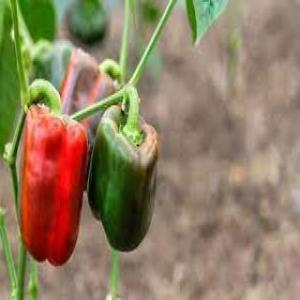bell_pepper: (85, 102, 159, 255)
